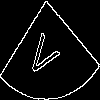V: (25, 25, 64, 82)
